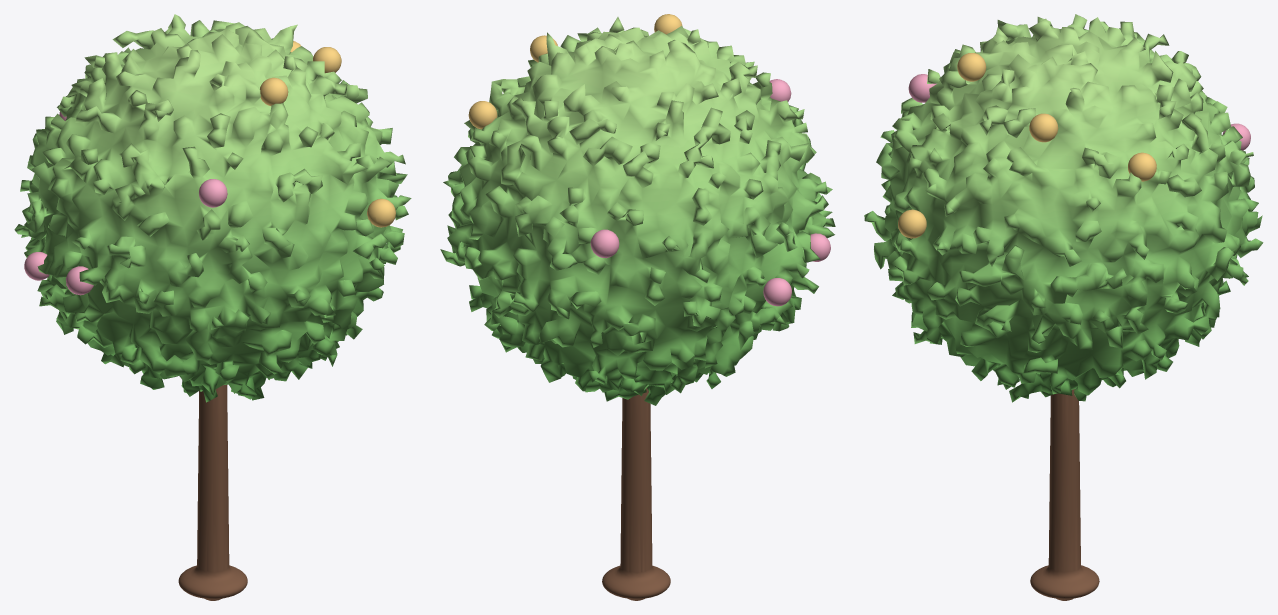
Rendered from topiary_roblox.glb.
3 views of the same model, side by side, from view 1: azimuth 30°, elevation 25°; view 2: azimuth 150°, elevation 25°; view 3: azimuth 270°, elevation 25° (orthographic).
Visible parts, largest first — view 1: Topiary_Ball, Topiary_Stem, Topiary_FlowersYellow, Topiary_FlowersPink; view 2: Topiary_Ball, Topiary_Stem, Topiary_FlowersPink, Topiary_FlowersYellow; view 3: Topiary_Ball, Topiary_Stem, Topiary_FlowersYellow, Topiary_FlowersPink.
Boxes of the visible parts, left/top/right/bottom form: Topiary_Ball: left=14, top=14, right=411, bottom=402; Topiary_Stem: left=178, top=385, right=247, bottom=600; Topiary_FlowersYellow: left=260, top=41, right=395, bottom=227; Topiary_FlowersPink: left=24, top=112, right=227, bottom=295; Topiary_Ball: left=440, top=17, right=835, bottom=405; Topiary_Stem: left=602, top=388, right=670, bottom=600; Topiary_FlowersPink: left=590, top=79, right=830, bottom=306; Topiary_FlowersYellow: left=468, top=14, right=682, bottom=129; Topiary_Ball: left=864, top=14, right=1263, bottom=402; Topiary_Stem: left=1030, top=389, right=1099, bottom=600; Topiary_FlowersYellow: left=898, top=53, right=1156, bottom=238; Topiary_FlowersPink: left=908, top=74, right=1250, bottom=150.
Size of the model in its own units: 2.06 by 3.23 by 2.07.
Materials: 4 (4 with a texture image).
